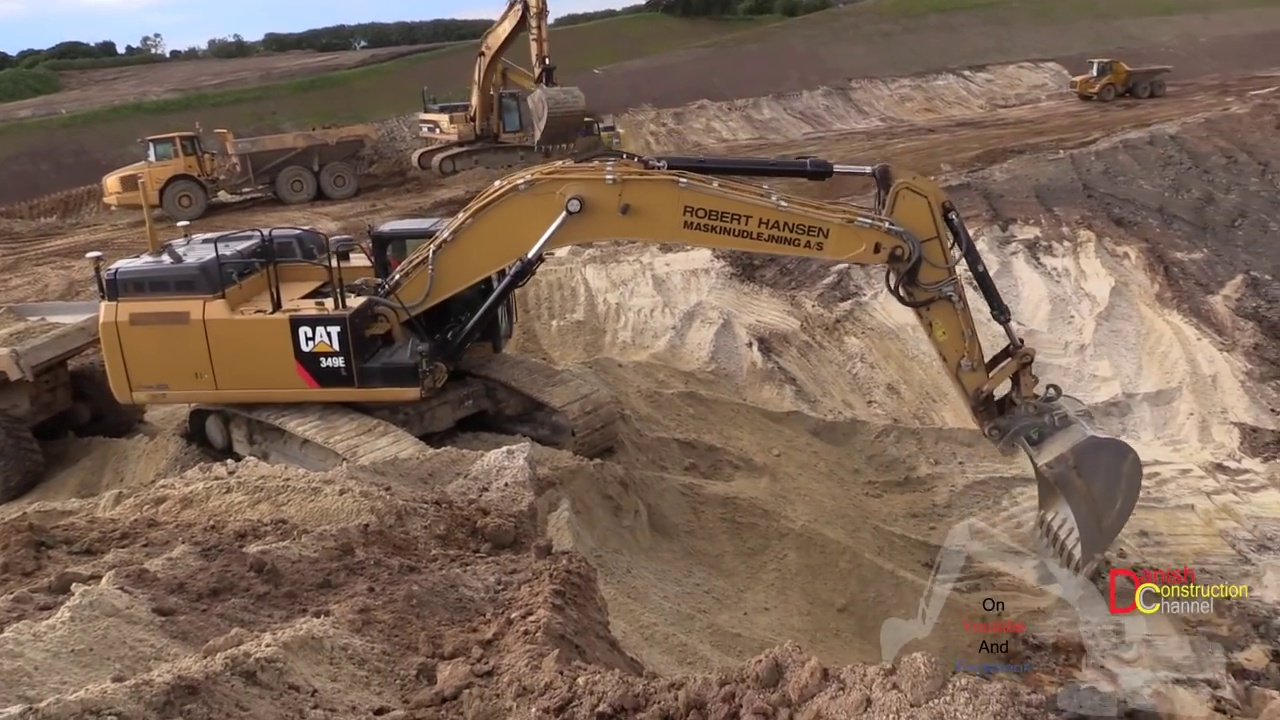dumper: (101, 127, 381, 221), (1071, 56, 1172, 103)
excavator: (90, 157, 1146, 583), (412, 6, 587, 180)
